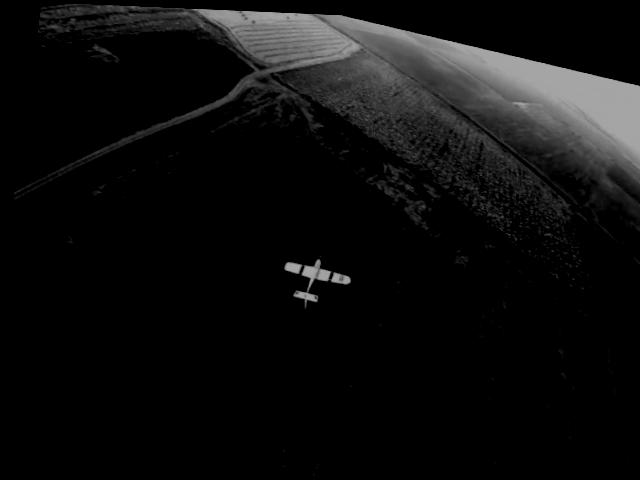hedef: (268, 242, 358, 313)
